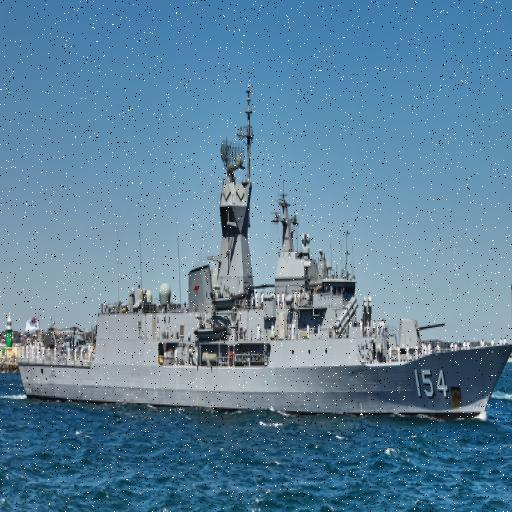Fragata: (18, 80, 512, 426)
